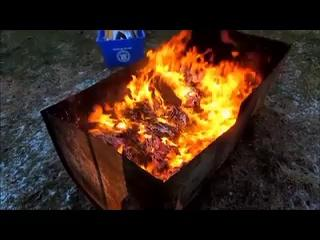Fire: (119, 56, 215, 160)
